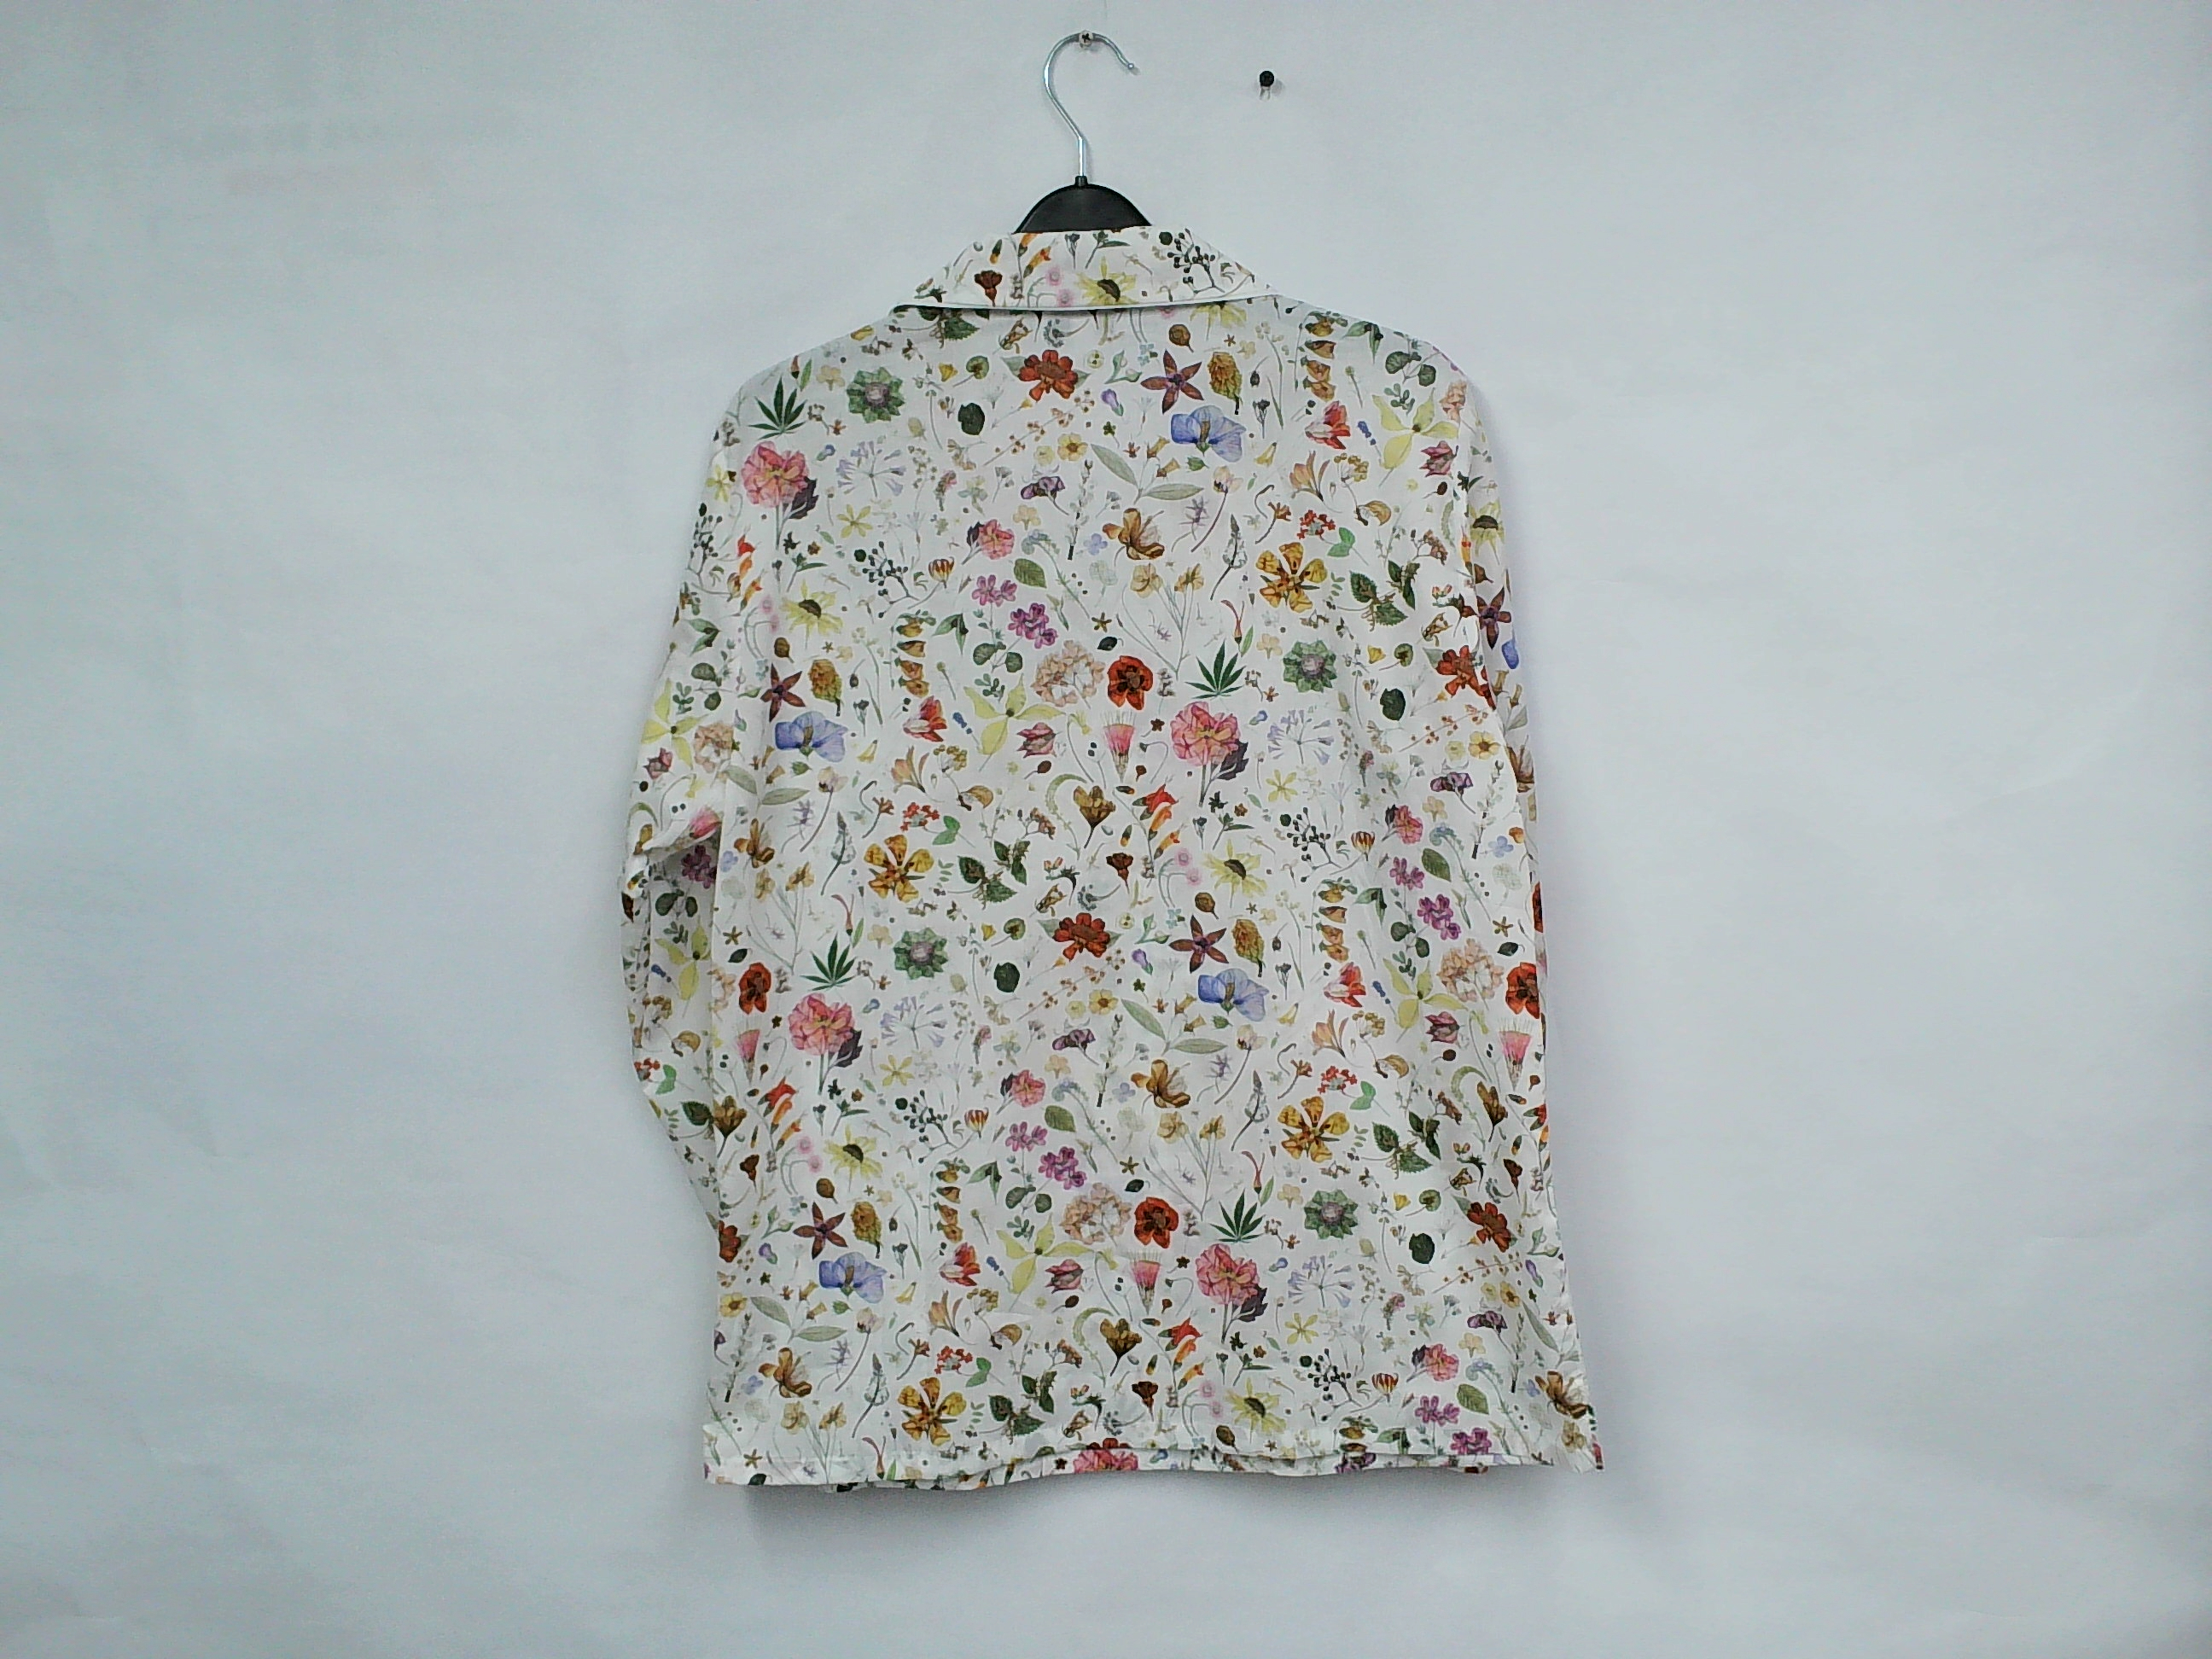seam: (894, 270, 1291, 333)
